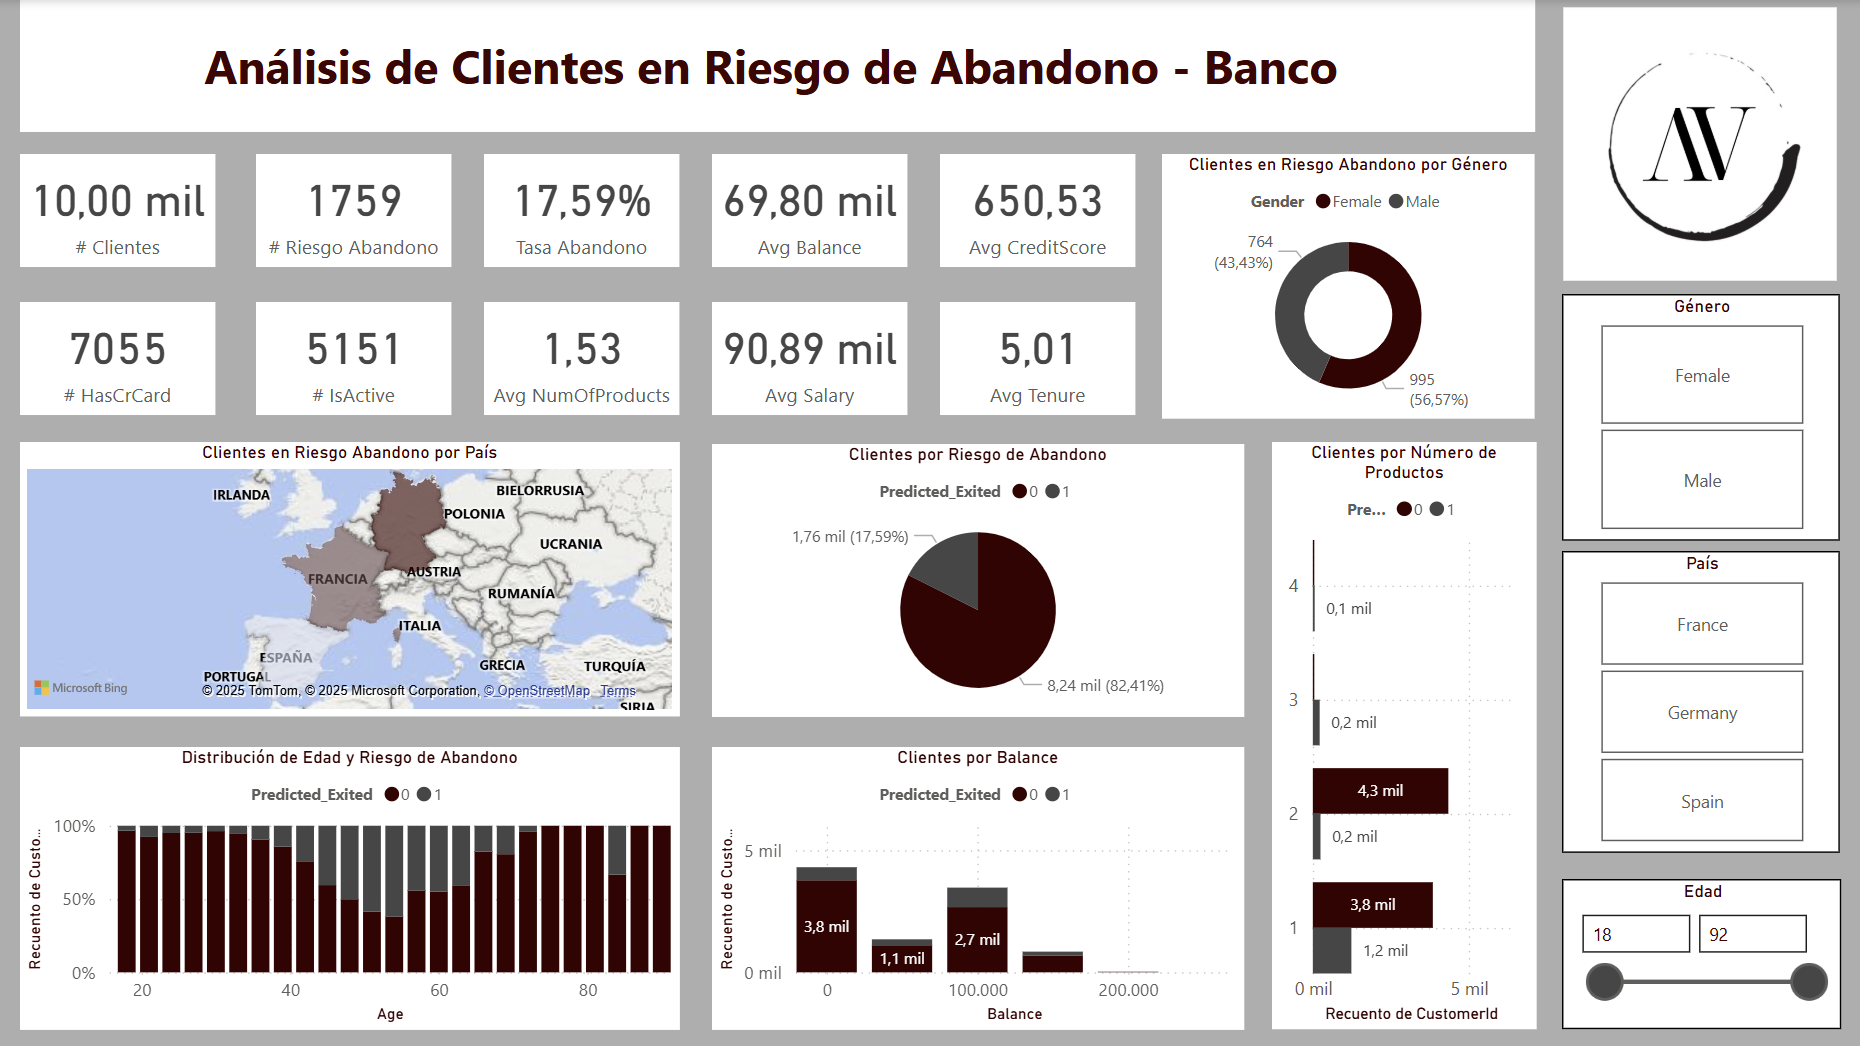

The page's visual inventory and layout, read from the dashboard file:
{"tool":"powerbi","page":{"name":"Resumen Ejecutivo","canvas":[1280,720],"ordinal":0},"visuals":[{"type":"donutChart","title":"Clientes en Riesgo Abandono por Género","fields":{"Category":["predicciones_rf.Gender"],"Y":["Sum(predicciones_rf.Predicted_Exited)"]},"box":[798.7,106.2,255.6,181.4],"z":0},{"type":"filledMap","title":"Clientes en Riesgo Abandono por País","fields":{"Category":["predicciones_rf.Geography"]},"box":[15.5,303,452.4,187.6],"z":1000},{"type":"card","fields":{"Values":["00_Medidas.Clientes_Analizados"]},"box":[15.5,106.2,134,77.3],"z":2000},{"type":"slicer","title":"Género","fields":{"Values":["predicciones_rf.Gender"]},"box":[1072.5,201.6,190.6,168.7],"z":3000},{"type":"slicer","title":"País","fields":{"Values":["predicciones_rf.Geography"]},"box":[1072.5,377.1,190.6,207.1],"z":4000},{"type":"slicer","title":"Edad","fields":{"Values":["predicciones_rf.Age"]},"box":[1071.8,601.9,191.7,103.1],"z":5000},{"type":"clusteredBarChart","title":"Clientes por Número de Productos","fields":{"Category":["predicciones_rf.NumOfProducts"],"Series":["predicciones_rf.Predicted_Exited"],"Y":["CountNonNull(predicciones_rf.CustomerId)"]},"box":[872.9,303,181.4,401.9],"z":6000},{"type":"hundredPercentStackedColumnChart","title":"Distribución de Edad y Riesgo de Abandono","fields":{"Y":["CountNonNull(predicciones_rf.CustomerId)"],"Series":["predicciones_rf.Predicted_Exited"],"Category":["predicciones_rf.Age (ubicaciones)"]},"box":[15.5,511.2,452.4,193.8],"z":7000},{"type":"textbox","box":[15.5,0,1038.8,90.7],"z":8000},{"type":"card","fields":{"Values":["00_Medidas.Riesgo_Abandono"]},"box":[176.2,106.2,134,77.3],"z":9000},{"type":"card","fields":{"Values":["00_Medidas.Tasa_Abandono_Predicha"]},"box":[333.9,106.2,134,77.3],"z":10000},{"type":"card","fields":{"Values":["Avg(predicciones_rf.BalanceOK)"]},"box":[489.5,106.2,134,77.3],"z":11000},{"type":"card","fields":{"Values":["Avg(predicciones_rf.CreditScore)"]},"box":[646.2,106.2,134,77.3],"z":12000},{"type":"card","fields":{"Values":["Sum(predicciones_rf.HasCrCard)"]},"box":[15.5,207.1,134,77.3],"z":13000},{"type":"card","fields":{"Values":["Sum(predicciones_rf.IsActiveMember)"]},"box":[176.2,207.1,134,77.3],"z":14000},{"type":"card","fields":{"Values":["Avg(predicciones_rf.NumOfProducts)"]},"box":[333.9,207.1,134,77.3],"z":15000},{"type":"card","fields":{"Values":["Avg(predicciones_rf.Salary)"]},"box":[489.5,207.1,134,77.3],"z":16000},{"type":"card","fields":{"Values":["Avg(predicciones_rf.Tenure)"]},"box":[646.2,207.1,134,77.3],"z":17000},{"type":"pieChart","title":"Clientes por Riesgo de Abandono","fields":{"Y":["CountNonNull(predicciones_rf.CustomerId)"],"Category":["predicciones_rf.Predicted_Exited"]},"box":[489.5,304,364.8,186.5],"z":18000},{"type":"columnChart","title":"Clientes por Balance","fields":{"Category":["predicciones_rf.BalanceOK (ubicaciones)"],"Y":["CountNonNull(predicciones_rf.CustomerId)"],"Series":["predicciones_rf.Predicted_Exited"]},"box":[489.5,511.2,364.8,193.8],"z":19000},{"type":"image","box":[1062.9,0,208.5,197.5],"z":19001}]}

Visuals, with their boxes in screenshot pixels (x1, y1, x2, y2), scaled from the page's 1280x720 canvas onto the 1860x1046 screenshot:
"Clientes en Riesgo Abandono por Género" donutChart: region(1161, 154, 1532, 418)
"Clientes en Riesgo Abandono por País" filledMap: region(23, 440, 680, 713)
card - 00_Medidas.Clientes_Analizados: region(23, 154, 217, 267)
"Género" slicer: region(1558, 293, 1835, 538)
"País" slicer: region(1558, 548, 1835, 849)
"Edad" slicer: region(1557, 874, 1836, 1024)
"Clientes por Número de Productos" clusteredBarChart: region(1268, 440, 1532, 1024)
"Distribución de Edad y Riesgo de Abandono" hundredPercentStackedColumnChart: region(23, 743, 680, 1024)
textbox: region(23, 0, 1532, 132)
card - 00_Medidas.Riesgo_Abandono: region(256, 154, 451, 267)
card - 00_Medidas.Tasa_Abandono_Predicha: region(485, 154, 680, 267)
card - Avg(predicciones_rf.BalanceOK): region(711, 154, 906, 267)
card - Avg(predicciones_rf.CreditScore): region(939, 154, 1134, 267)
card - Sum(predicciones_rf.HasCrCard): region(23, 301, 217, 413)
card - Sum(predicciones_rf.IsActiveMember): region(256, 301, 451, 413)
card - Avg(predicciones_rf.NumOfProducts): region(485, 301, 680, 413)
card - Avg(predicciones_rf.Salary): region(711, 301, 906, 413)
card - Avg(predicciones_rf.Tenure): region(939, 301, 1134, 413)
"Clientes por Riesgo de Abandono" pieChart: region(711, 442, 1241, 713)
"Clientes por Balance" columnChart: region(711, 743, 1241, 1024)
image: region(1545, 0, 1848, 287)
